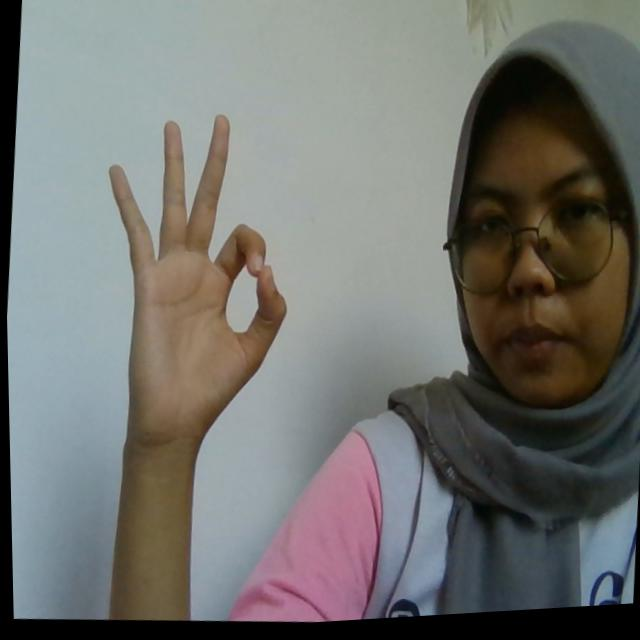F: (88, 106, 302, 451)
